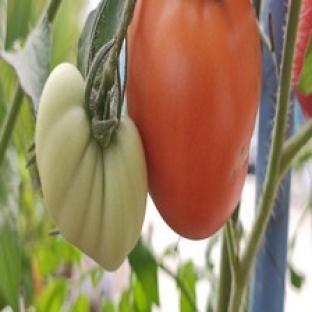Tomato: (35, 65, 147, 270)
